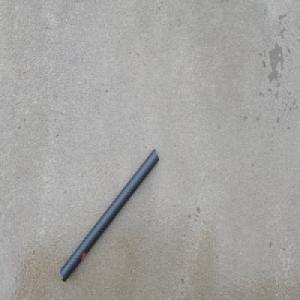LuggagePart: (59, 147, 159, 282)
